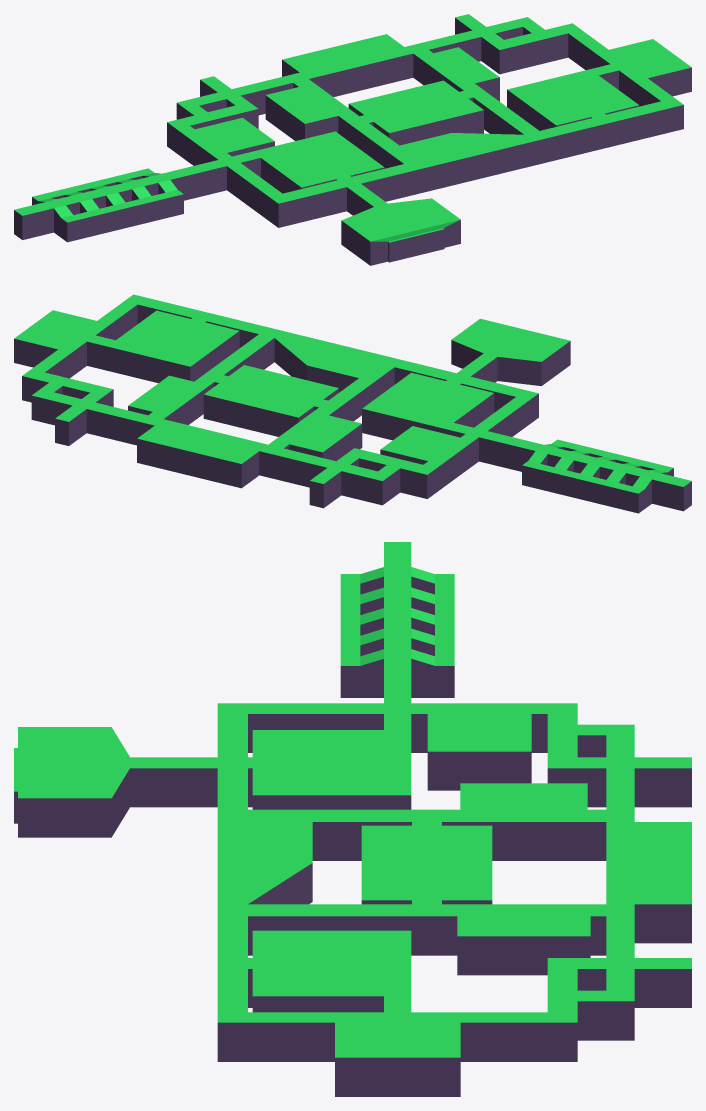
Rendered from map.glb.
3 views of the same model, one above another, from view 1: azimuth 30°, elevation 25°; view 2: azimuth 150°, elevation 25°; view 3: azimuth 270°, elevation 25° (orthographic). The views are drawn at different scales.
Parts seen in each view (by area): view 1: BaseMap; view 2: BaseMap; view 3: BaseMap.
Part boxes in pixels (left/top/right/bottom): BaseMap: left=14, top=14, right=691, bottom=265; BaseMap: left=14, top=294, right=691, bottom=513; BaseMap: left=14, top=542, right=691, bottom=1096.
Bounding box in the file's own units: 18.99 × 0.6727 × 10.55.
